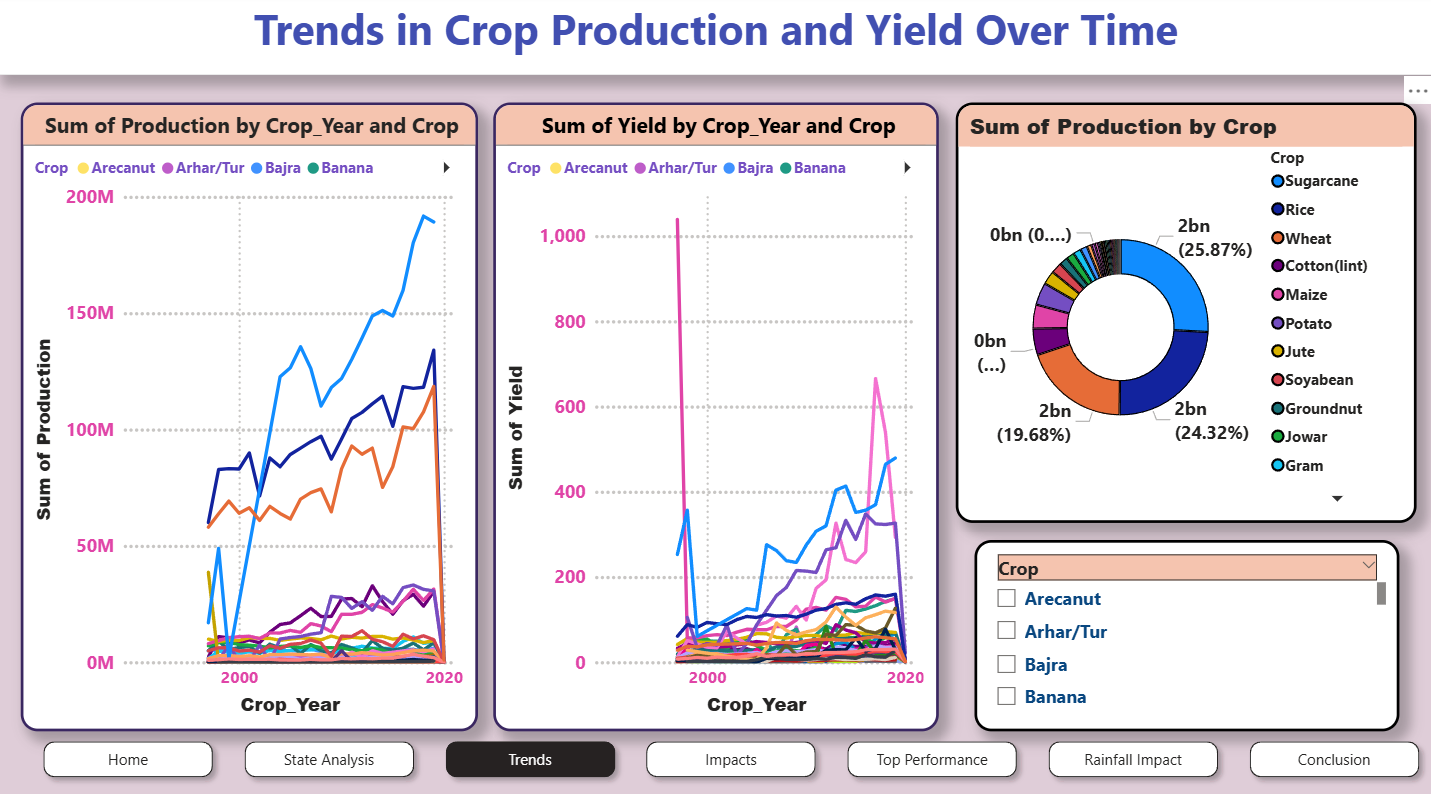

This screenshot's page, from the dashboard's own definition file:
{"tool":"powerbi","page":{"name":"Trends","canvas":[1280,720],"ordinal":2},"visuals":[{"type":"lineChart","fields":{"Category":["crop_yield.Crop_Year"],"Y":["Sum(crop_yield.Production)"],"Series":["crop_yield.Crop"]},"box":[21.4,95.7,407.1,560],"z":0},{"type":"lineChart","fields":{"Category":["crop_yield.Crop_Year"],"Y":["Sum(crop_yield.Yield)"],"Series":["crop_yield.Crop"]},"box":[441.4,95.7,397.1,560],"z":1000},{"type":"textbox","box":[0,0,1280.3,71.4],"z":2000},{"type":"donutChart","fields":{"Category":["crop_yield.Crop"],"Y":["Sum(crop_yield.Production)"]},"box":[854.3,95.7,410,374.3],"z":3000},{"type":"slicer","fields":{"Values":["crop_yield.Crop"]},"box":[870,485.7,378.6,170],"z":4000},{"type":"pageNavigator","box":[15.7,670,1248.6,50],"z":4001}]}

Visuals, with their boxes in screenshot pixels (x1, y1, x2, y2), scaled from the page's 1280x720 canvas onto the 1431x794 screenshot:
lineChart - crop_yield.Crop_Year x Sum(crop_yield.Production): [left=24, top=106, right=479, bottom=723]
lineChart - crop_yield.Crop_Year x Sum(crop_yield.Yield): [left=493, top=106, right=937, bottom=723]
textbox: [left=0, top=0, right=1430, bottom=79]
donutChart - crop_yield.Crop x Sum(crop_yield.Production): [left=955, top=106, right=1413, bottom=518]
slicer - crop_yield.Crop: [left=973, top=536, right=1396, bottom=723]
pageNavigator: [left=18, top=739, right=1413, bottom=793]
